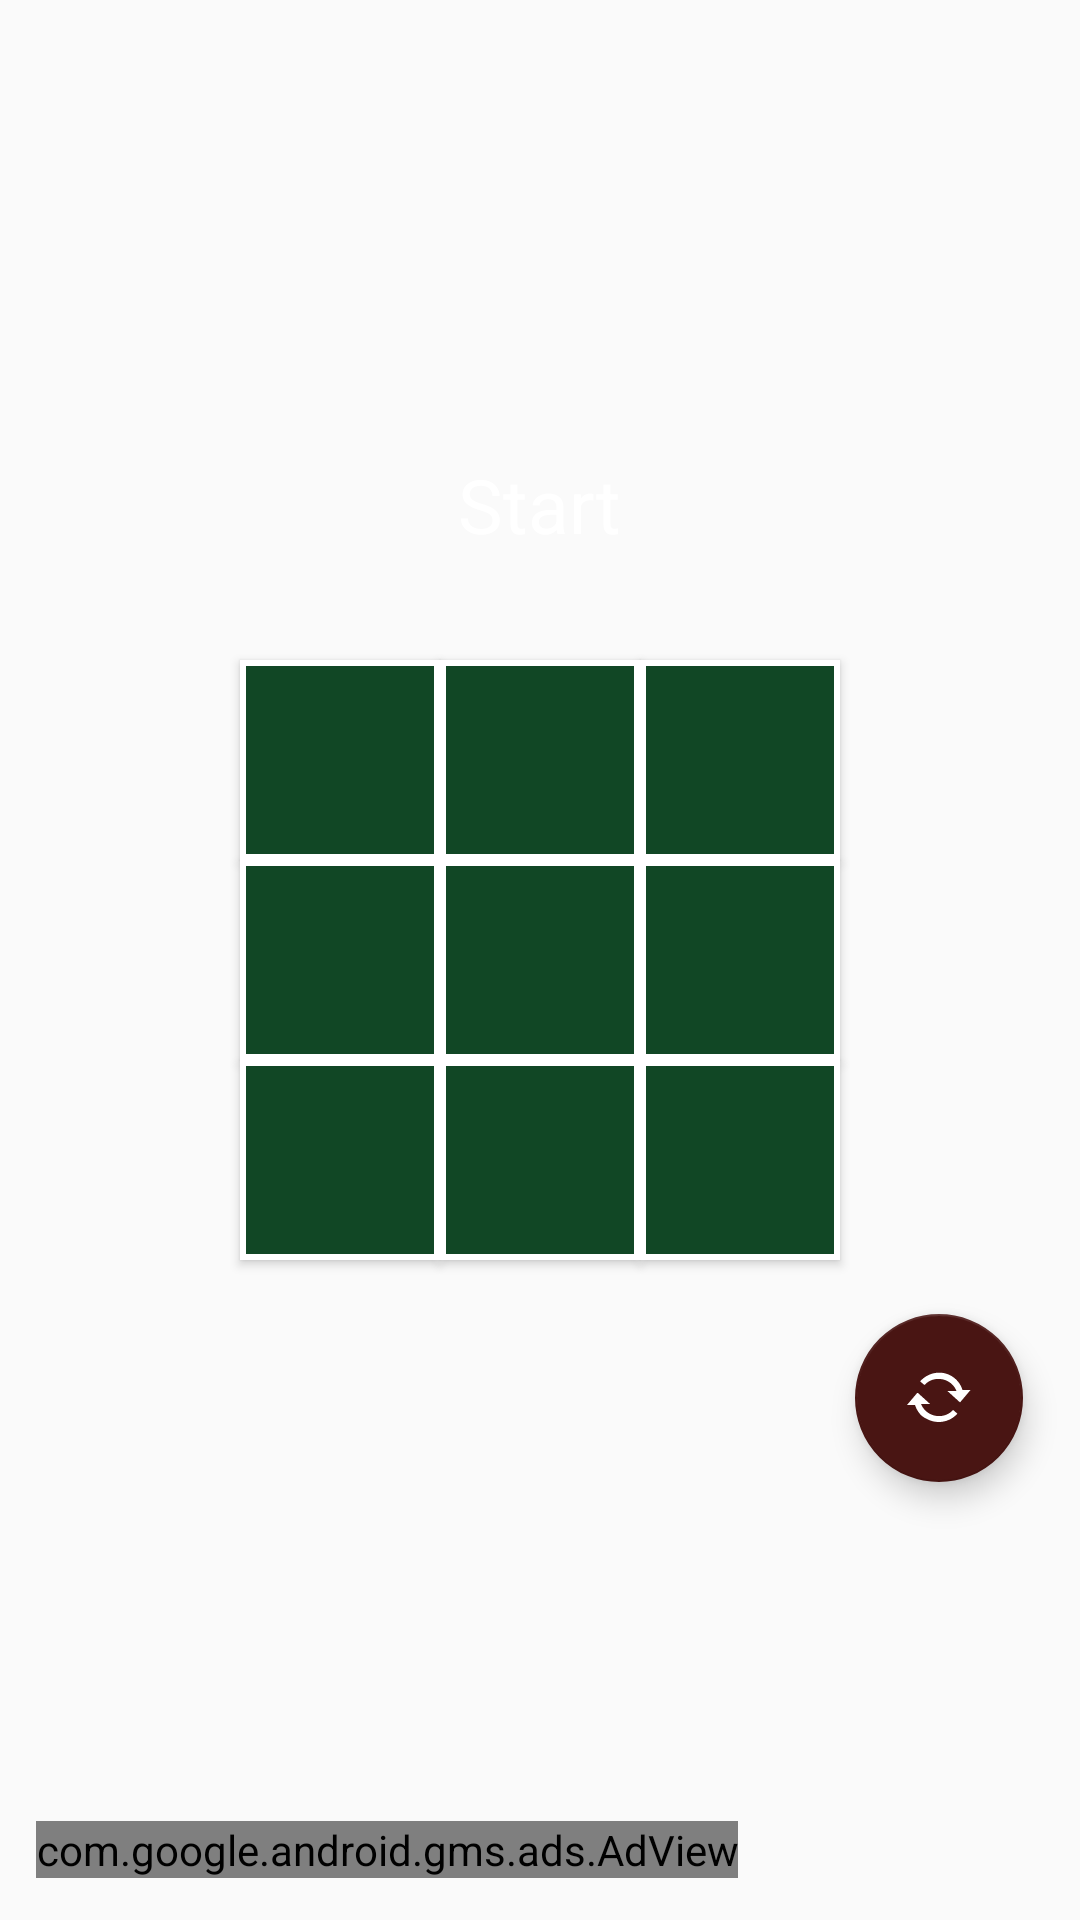

Screen size 1080px x 1920px. Icon name, then its center in pixels as point (x, y):
sync noanim: point (939, 1398)
